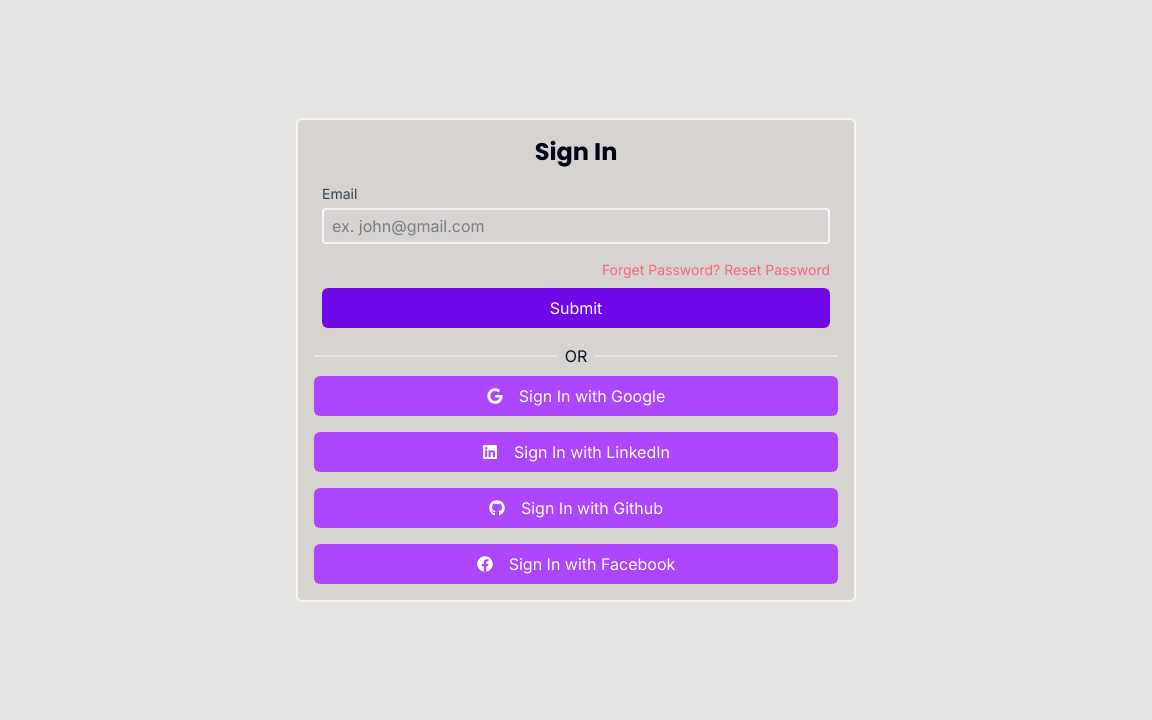
Test: Verification - Integration › opens reset password form
This screenshot has width=1152, height=720.
What coordinates should you click on to do the following:
click the link "Forget Password? Reset Password"
I would click on:
 (716, 270)
Its box is top-left (602, 261), bottom-right (830, 278).
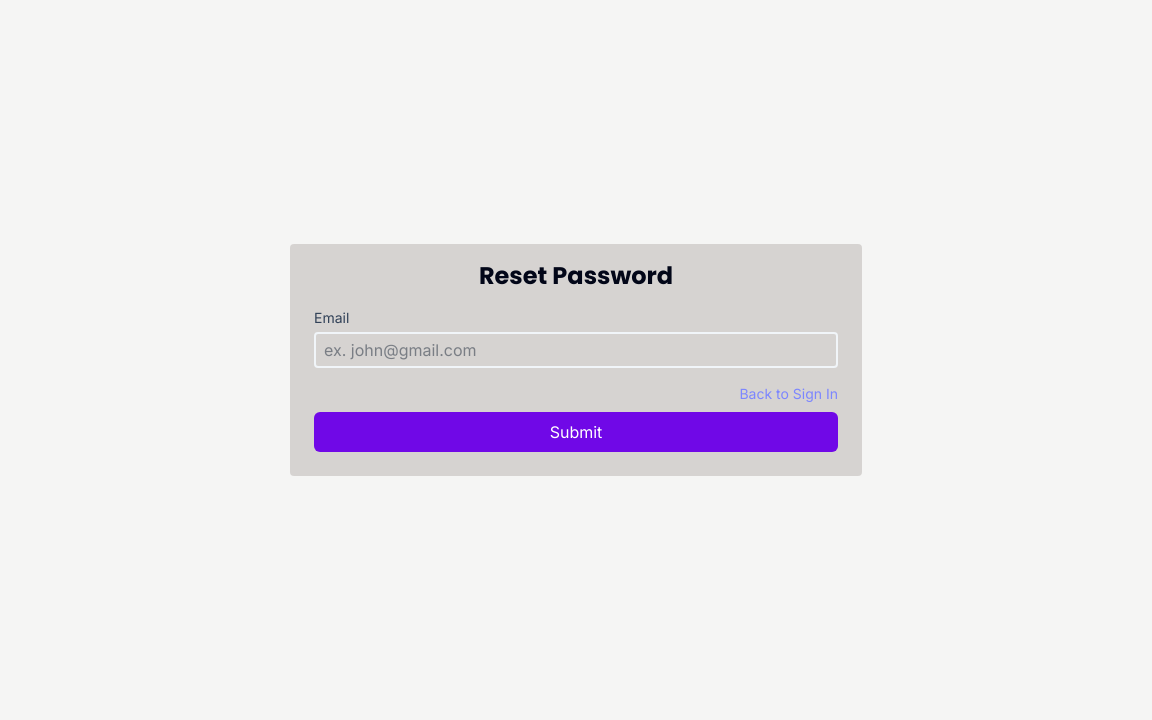
Expected: the field labelled "Email" is shown, top-left (314, 332), bottom-right (838, 368)
Result: the text "Reset Password" is shown at top-left (479, 259), bottom-right (673, 292)
